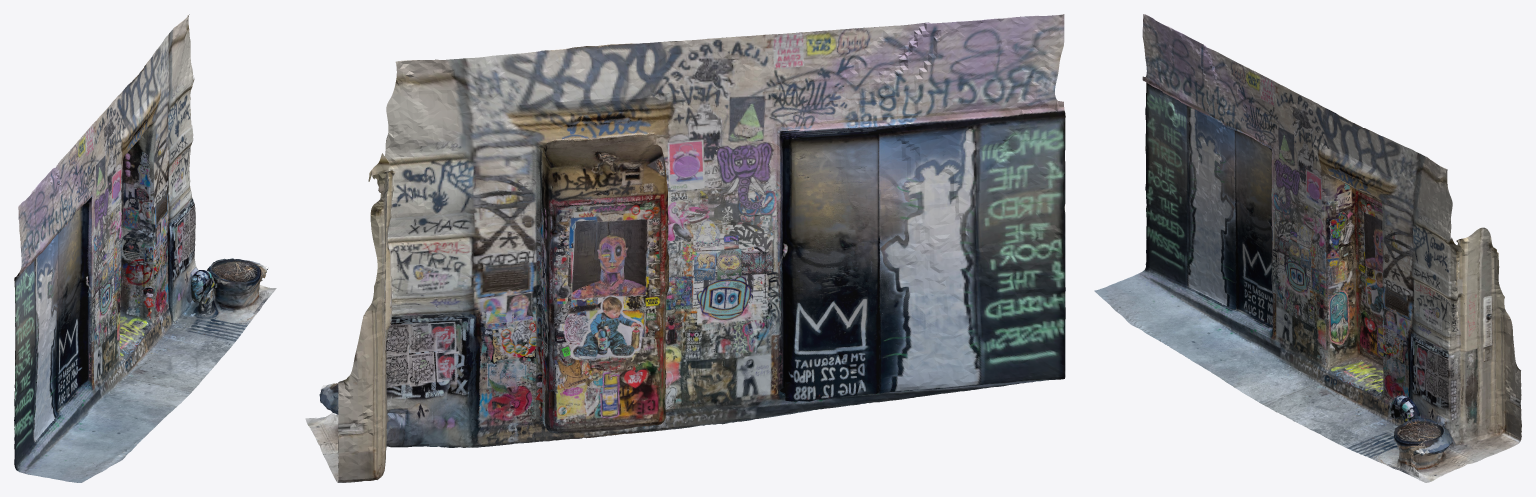
Rendered from shop_front.fbx.
The picture shows the model from 3 angles, left to right: view 1: azimuth 30°, elevation 25°; view 2: azimuth 150°, elevation 25°; view 3: azimuth 270°, elevation 25°; orthographic projection. The views are drawn at different scales.
Visible parts, largest first — view 1: cropped_textured_mesh; view 2: cropped_textured_mesh; view 3: cropped_textured_mesh.
Part boxes in pixels (x1,y1,x2,y2): cropped_textured_mesh: [14, 14, 276, 482]; cropped_textured_mesh: [305, 14, 1065, 482]; cropped_textured_mesh: [1094, 14, 1521, 482].
Size of the model in its own units: 554 by 377 by 519.
